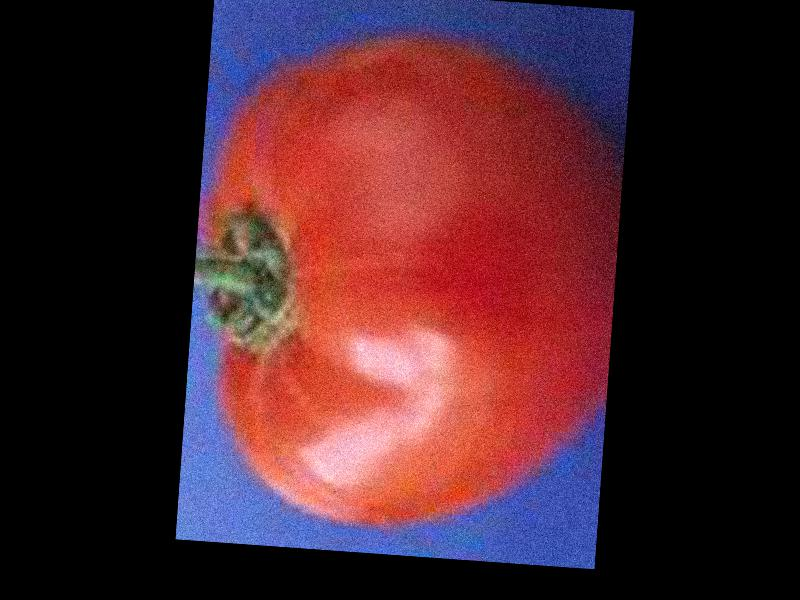Tomato: (181, 19, 628, 540)
